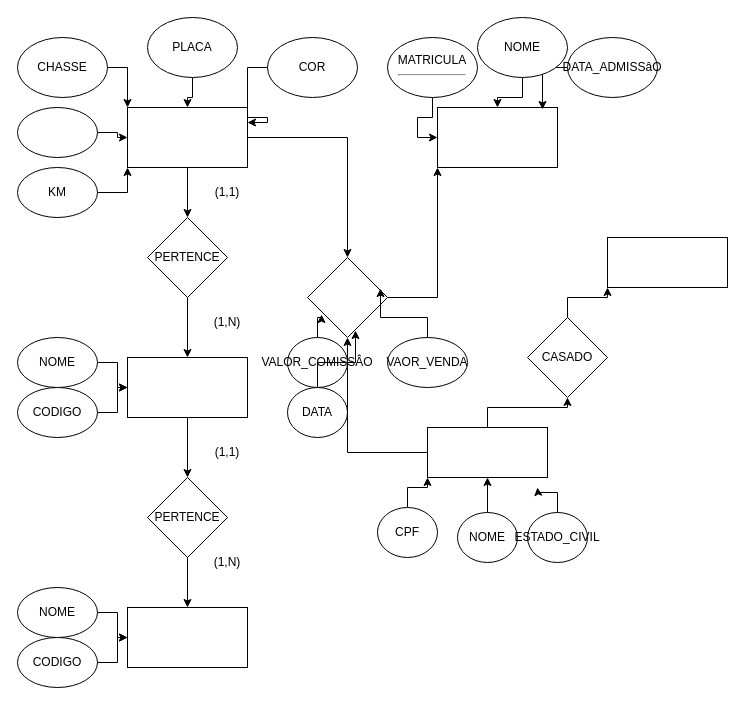
The diagram is 745 pixels wide and 705 high, and some of its shapes have lost their labels. The box of each missing label's shape, as (x1, y1, x2, y2) in pixels:
COMPRADOR: (426, 426, 548, 478)
CONJUGE: (606, 236, 728, 288)
CORRETOR: (436, 106, 558, 168)
MARCA: (126, 606, 248, 668)
MODELO: (126, 356, 248, 418)
VEICULO: (126, 106, 248, 168)
VENDE: (306, 256, 388, 338)
